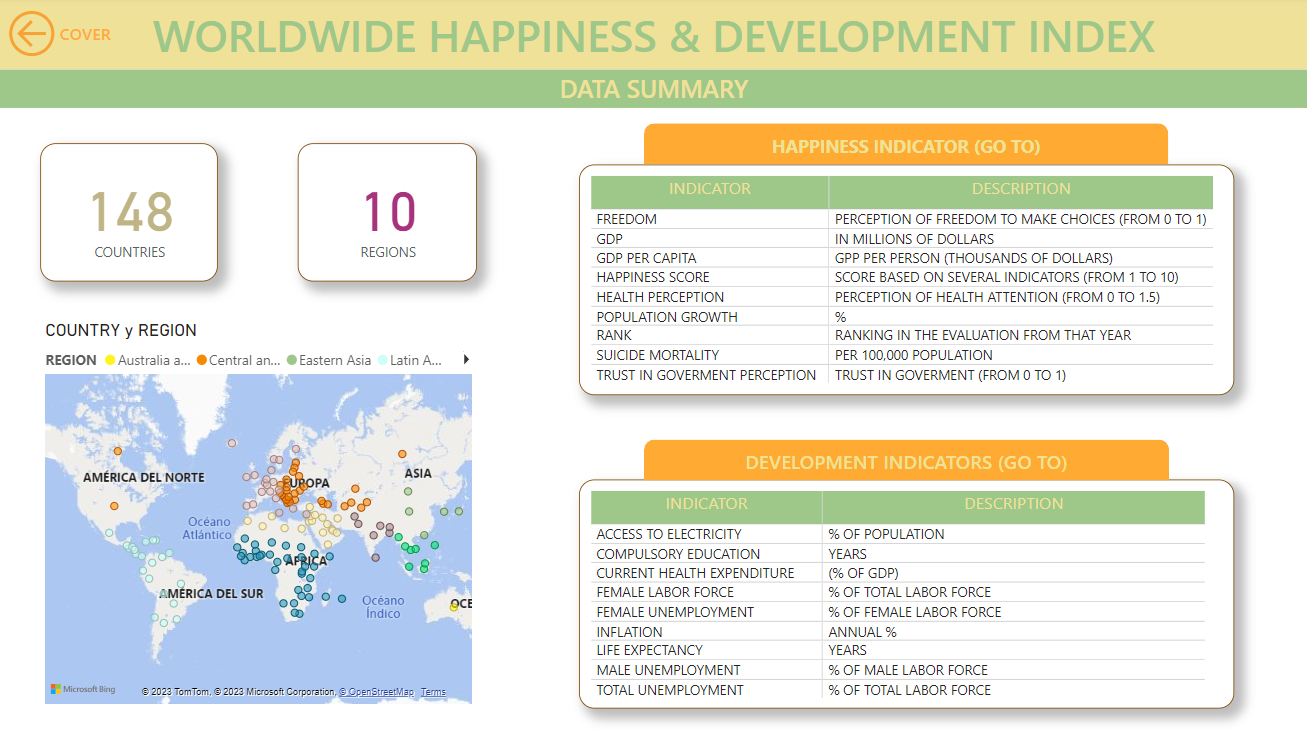

This screenshot's page, from the dashboard's own definition file:
{"tool":"powerbi","page":{"name":"SUMMARY","canvas":[1280,720],"ordinal":1},"visuals":[{"type":"card","fields":{"Values":["COUNTRY.AMOUNT_COUNTRIES"]},"box":[39.7,143,173.2,135.1],"z":0},{"type":"card","fields":{"Values":["COUNTRY.AMOUNT_REGIONS"]},"box":[292.5,143,174.8,135.1],"z":1000},{"type":"shape","box":[0,0,1280.5,70.4],"z":2000},{"type":"shape","box":[0,70.4,1280.5,37.4],"z":3000},{"type":"actionButton","box":[3.8,7.6,123.1,56.8],"z":4000},{"type":"tableEx","fields":{"Values":["HAPPINESS_INDICATOR.HAPPINESS_INDICATOR","HAPPINESS_INDICATOR.DESCRIPTION_HAPPINESS"]},"box":[567.4,163.7,640.5,225.7],"z":5000},{"type":"tableEx","fields":{"Values":["DEVELOPMENT_INDICATOR.DEVELOPMENT_INDICATOR","DEVELOPMENT_INDICATOR.DESCRIPTION_DEVELOPMENT"]},"box":[567.4,472.1,640.5,224.1],"z":6000},{"type":"actionButton","box":[631,432.3,513.4,39.7],"z":7000},{"type":"actionButton","box":[630.4,123.9,513.1,39.8],"z":8000},{"type":"map","fields":{"Category":["COUNTRIES.COUNTRY"],"Series":["COUNTRIES.REGION"]},"box":[39.8,314.8,426.9,381.1],"z":9000}]}

Visuals, with their boxes in screenshot pixels (x1, y1, x2, y2), scaled from the page's 1280x720 canvas onto the 1307x730 screenshot:
card - COUNTRY.AMOUNT_COUNTRIES: bbox(41, 145, 217, 282)
card - COUNTRY.AMOUNT_REGIONS: bbox(299, 145, 477, 282)
shape: bbox(0, 0, 1306, 71)
shape: bbox(0, 71, 1306, 109)
actionButton: bbox(4, 8, 130, 65)
tableEx - HAPPINESS_INDICATOR.HAPPINESS_INDICATOR x HAPPINESS_INDICATOR.DESCRIPTION_HAPPINESS: bbox(579, 166, 1233, 395)
tableEx - DEVELOPMENT_INDICATOR.DEVELOPMENT_INDICATOR x DEVELOPMENT_INDICATOR.DESCRIPTION_DEVELOPMENT: bbox(579, 479, 1233, 706)
actionButton: bbox(644, 438, 1169, 479)
actionButton: bbox(644, 126, 1168, 166)
map - COUNTRIES.COUNTRY x COUNTRIES.REGION: bbox(41, 319, 477, 706)
